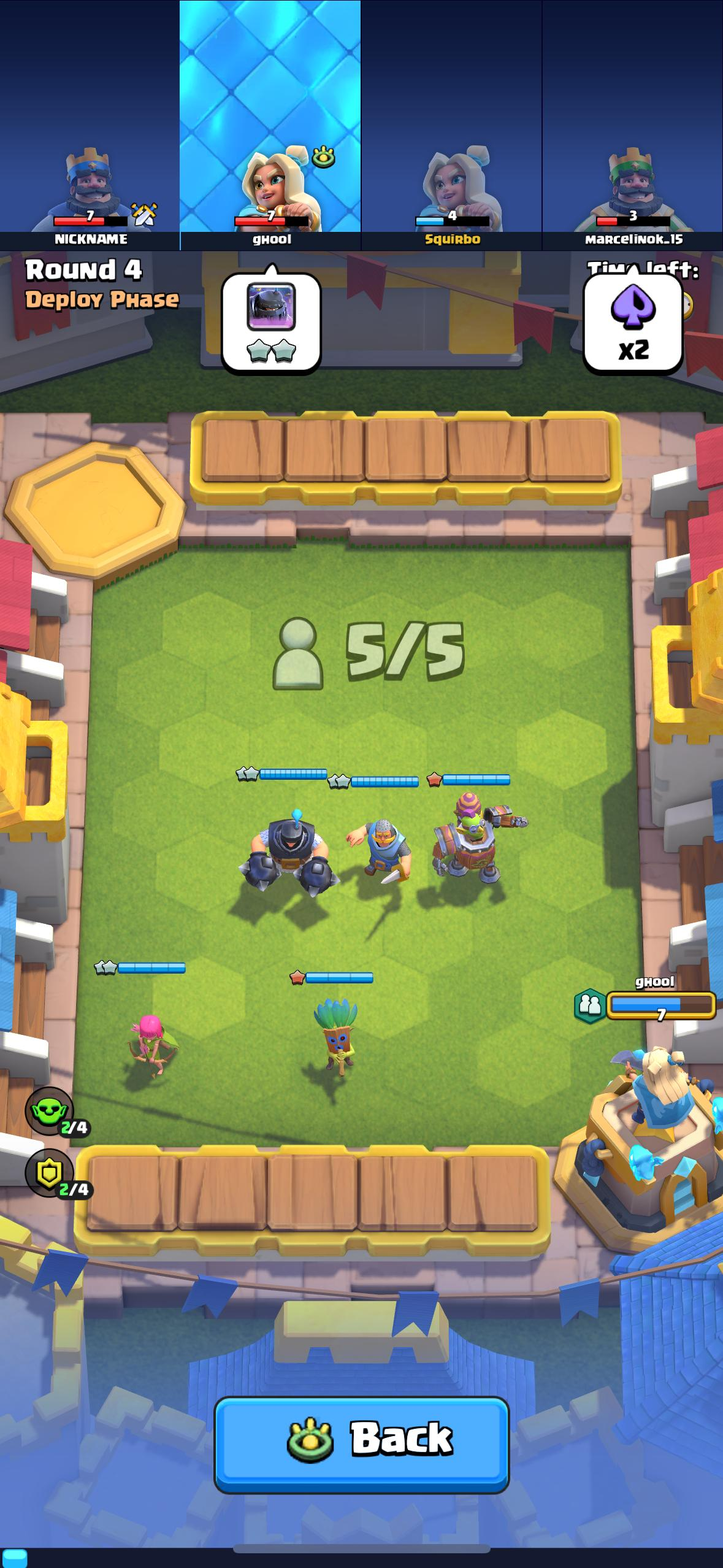archer: (136, 1004, 176, 1080)
dart: (305, 996, 366, 1081)
knight: (344, 811, 415, 893)
machine: (429, 786, 524, 891)
mega: (239, 802, 339, 899)
